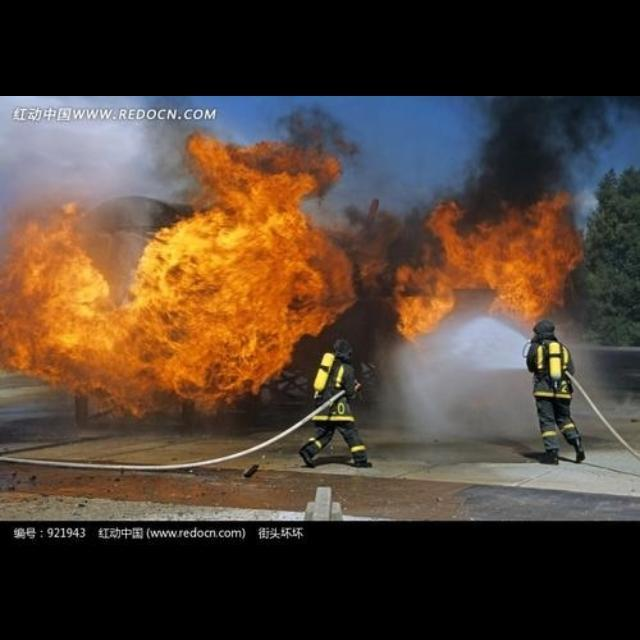Fire: (1, 128, 359, 416), (392, 188, 586, 342)
Smoke: (474, 93, 618, 183)
